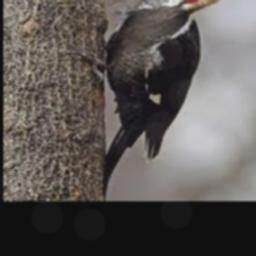Woodpecker: (67, 0, 244, 199)
